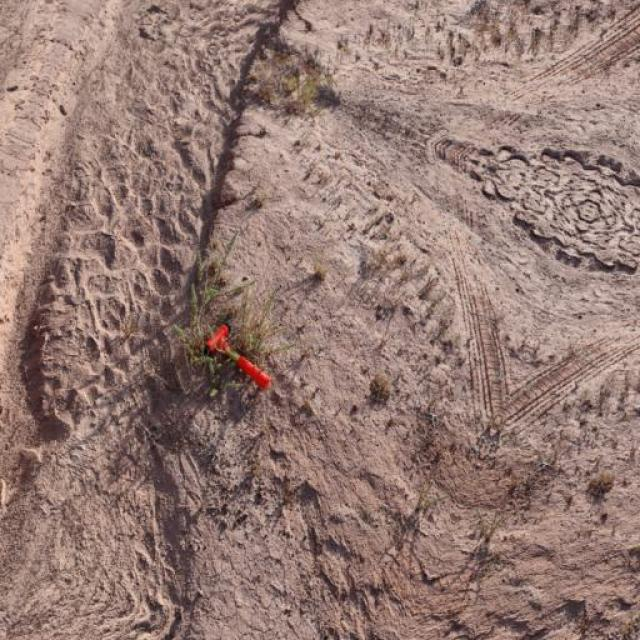mallet: (202, 321, 272, 390)
